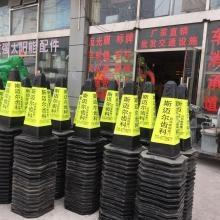cone_barrel: (148, 81, 180, 153), (109, 79, 140, 147), (22, 70, 52, 136), (71, 79, 100, 136), (47, 76, 71, 133), (100, 77, 119, 123), (136, 80, 157, 121)
